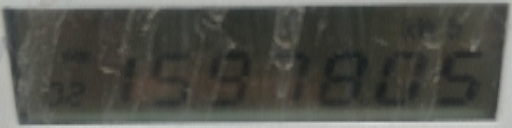0: (373, 42, 431, 104)
1: (118, 50, 139, 114)
5: (141, 36, 194, 115), (433, 48, 484, 111)
7: (267, 34, 313, 119)
8: (315, 44, 365, 116)
9: (207, 37, 263, 115)
d: (359, 96, 372, 110)
